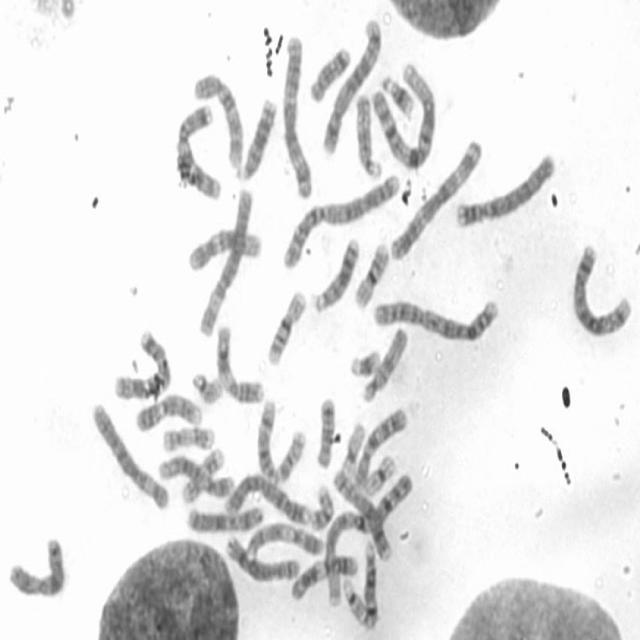A1: (320, 470, 415, 608), (370, 57, 438, 171)
A2: (279, 170, 402, 272), (369, 290, 503, 344)
A3: (388, 135, 483, 263), (279, 32, 314, 201)
B4: (451, 149, 557, 231), (221, 468, 311, 526)
B5: (320, 13, 384, 156), (568, 240, 632, 338)
C10: (191, 69, 244, 171), (351, 403, 407, 490)
C11: (213, 321, 264, 405), (288, 549, 360, 602)
C12: (186, 224, 262, 274), (155, 451, 234, 498)
C6: (196, 184, 256, 339), (88, 398, 170, 511)
C7: (173, 99, 223, 201), (111, 324, 173, 402)
C8: (330, 465, 392, 562), (222, 532, 300, 584)
C9: (243, 518, 326, 558), (133, 388, 204, 434)
D13: (309, 233, 360, 315), (233, 93, 277, 182)
D14: (254, 396, 278, 480), (360, 536, 379, 628)
D15: (359, 322, 408, 405), (353, 88, 382, 180)
E16: (264, 286, 308, 367), (351, 238, 390, 312)
E17: (178, 443, 226, 505), (160, 422, 216, 454)
E18: (306, 43, 352, 105), (313, 394, 337, 472)
F19: (338, 419, 366, 484), (362, 450, 397, 495)
F20: (274, 425, 308, 483), (308, 483, 335, 531)
G21: (380, 71, 415, 119), (347, 345, 381, 379)
G22: (341, 574, 366, 625), (190, 368, 223, 405)
X: (5, 532, 68, 598), (184, 502, 264, 535)
